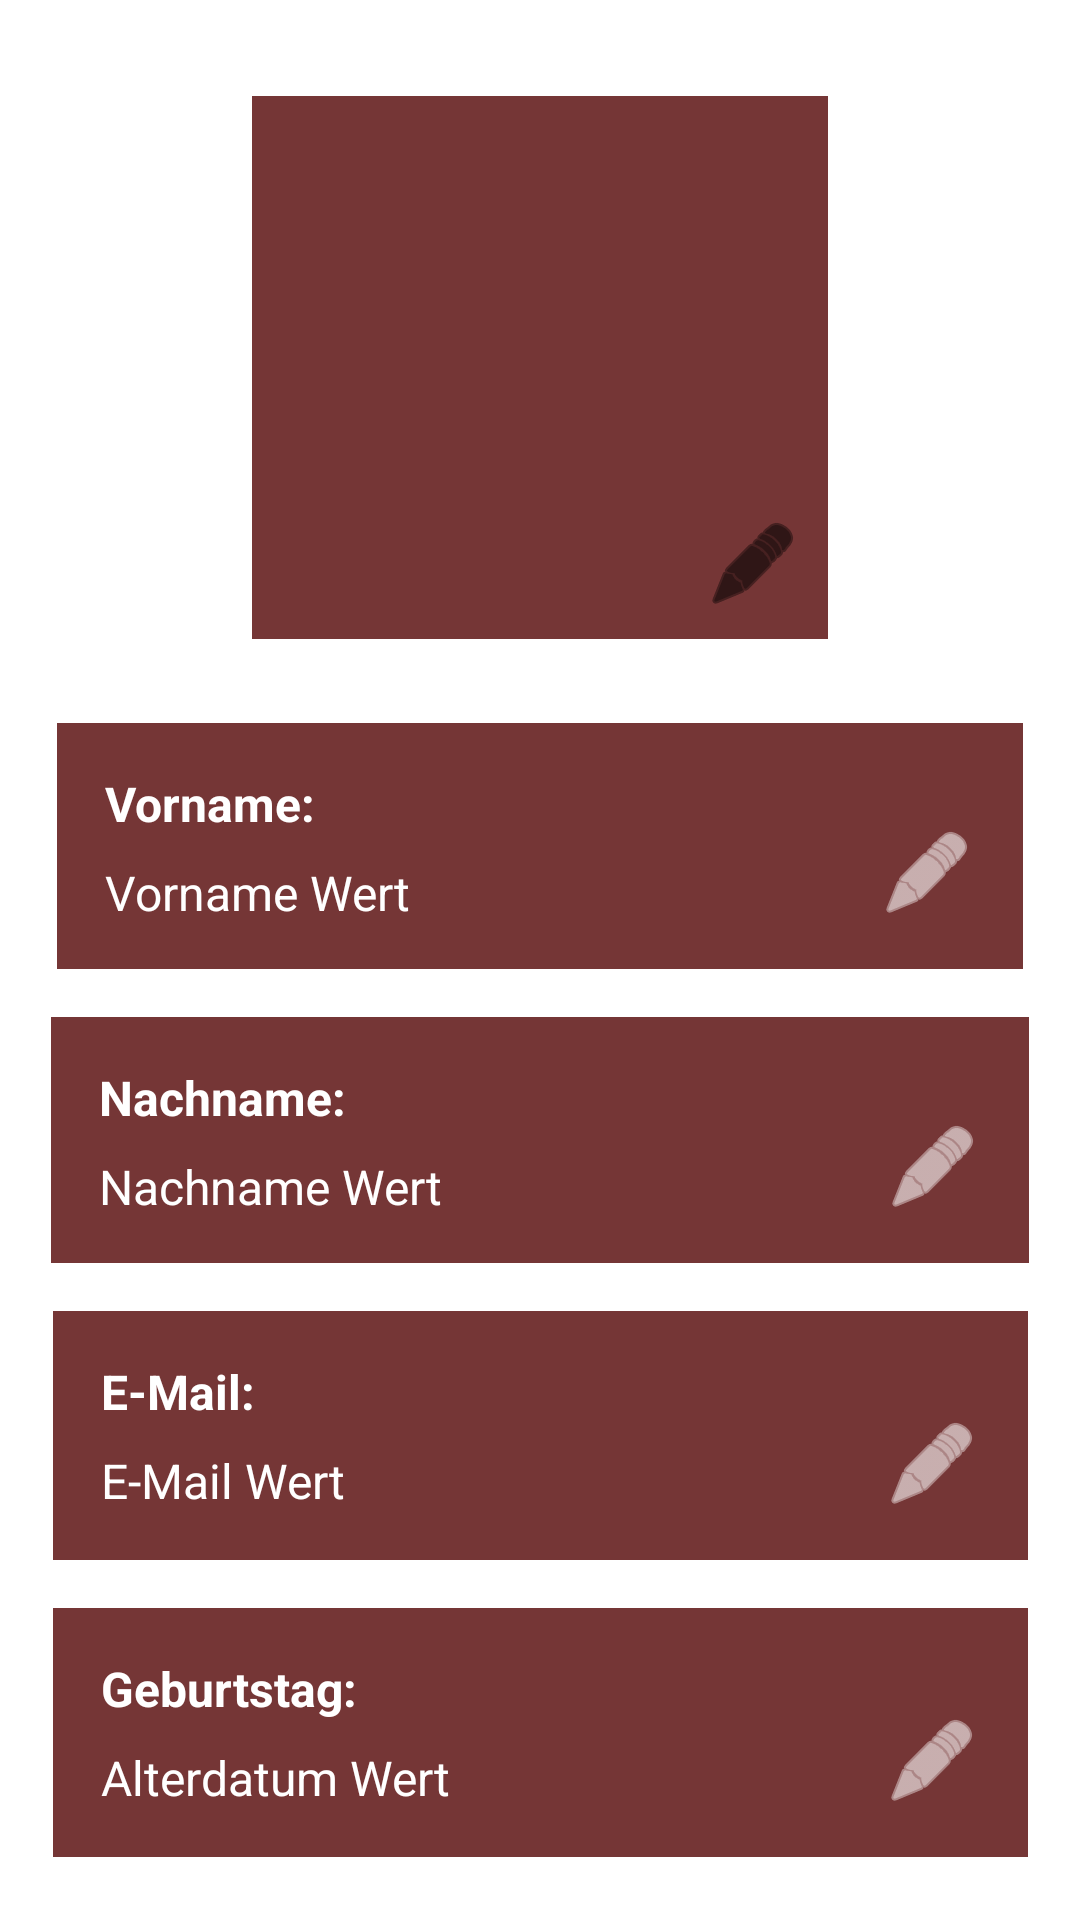

Where to tap for icons on this 1080 × 1920 app screen, as point (x, y):
Bearbeiten: point (752, 563), point (926, 872), point (932, 1166), point (931, 1463), point (931, 1760)
